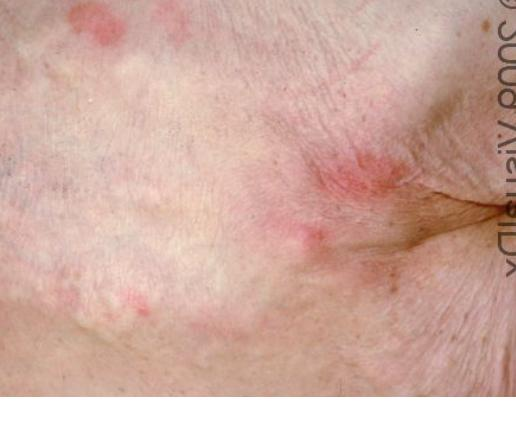Stage1: (5, 0, 470, 322)
